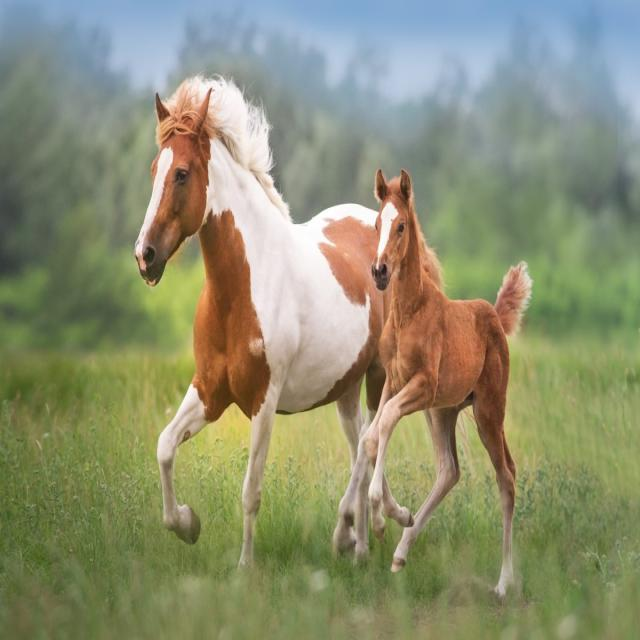Horse: (135, 83, 340, 591), (346, 155, 524, 596)
